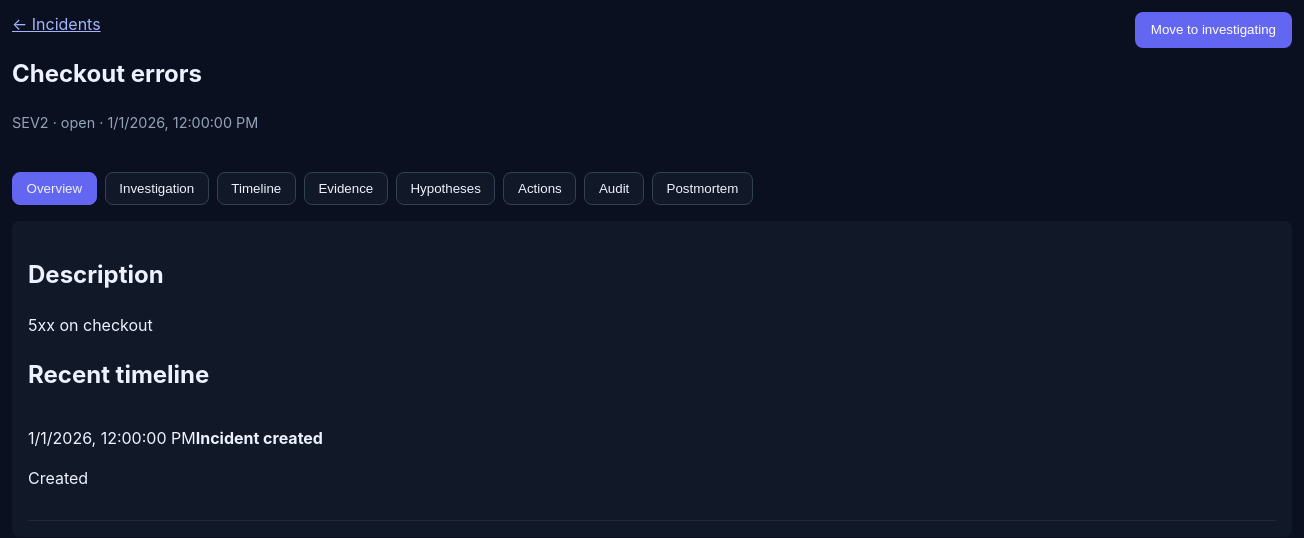
Test case: IncidentDetail tabs › shows empty placeholders for actions and postmortem
This screenshot has width=1304, height=538.
Expected: the heading "Checkout errors" is shown, [12,59,202,88]
Click the button "Actions" at (540, 188), box [503,172,576,205]
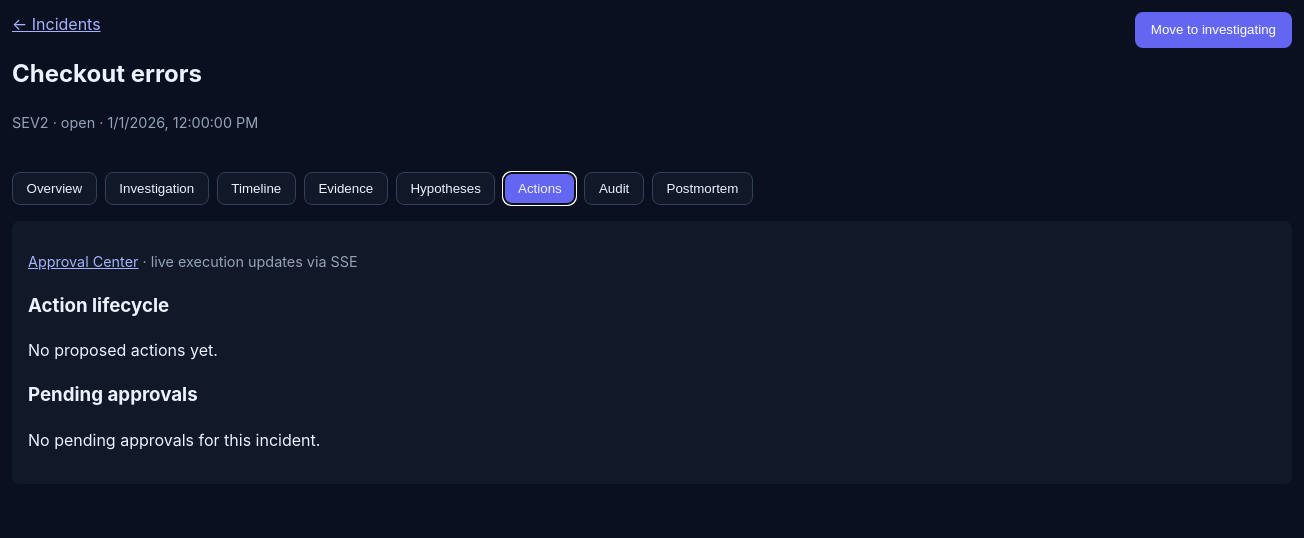
Now the text "No proposed actions yet." is shown, box [28,340,218,360]
Click the button "Postmortem" at (702, 188), box [652,172,753,205]
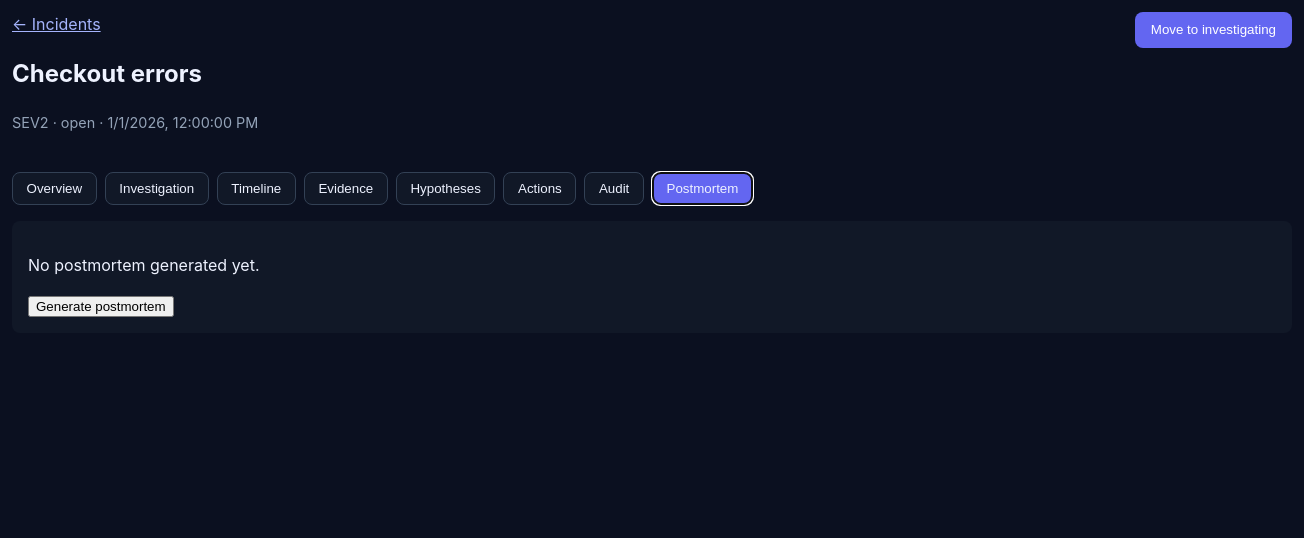
Now the text "No postmortem generated yet." is shown, box [28,255,260,275]
